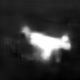plane: (20, 24, 73, 65)
